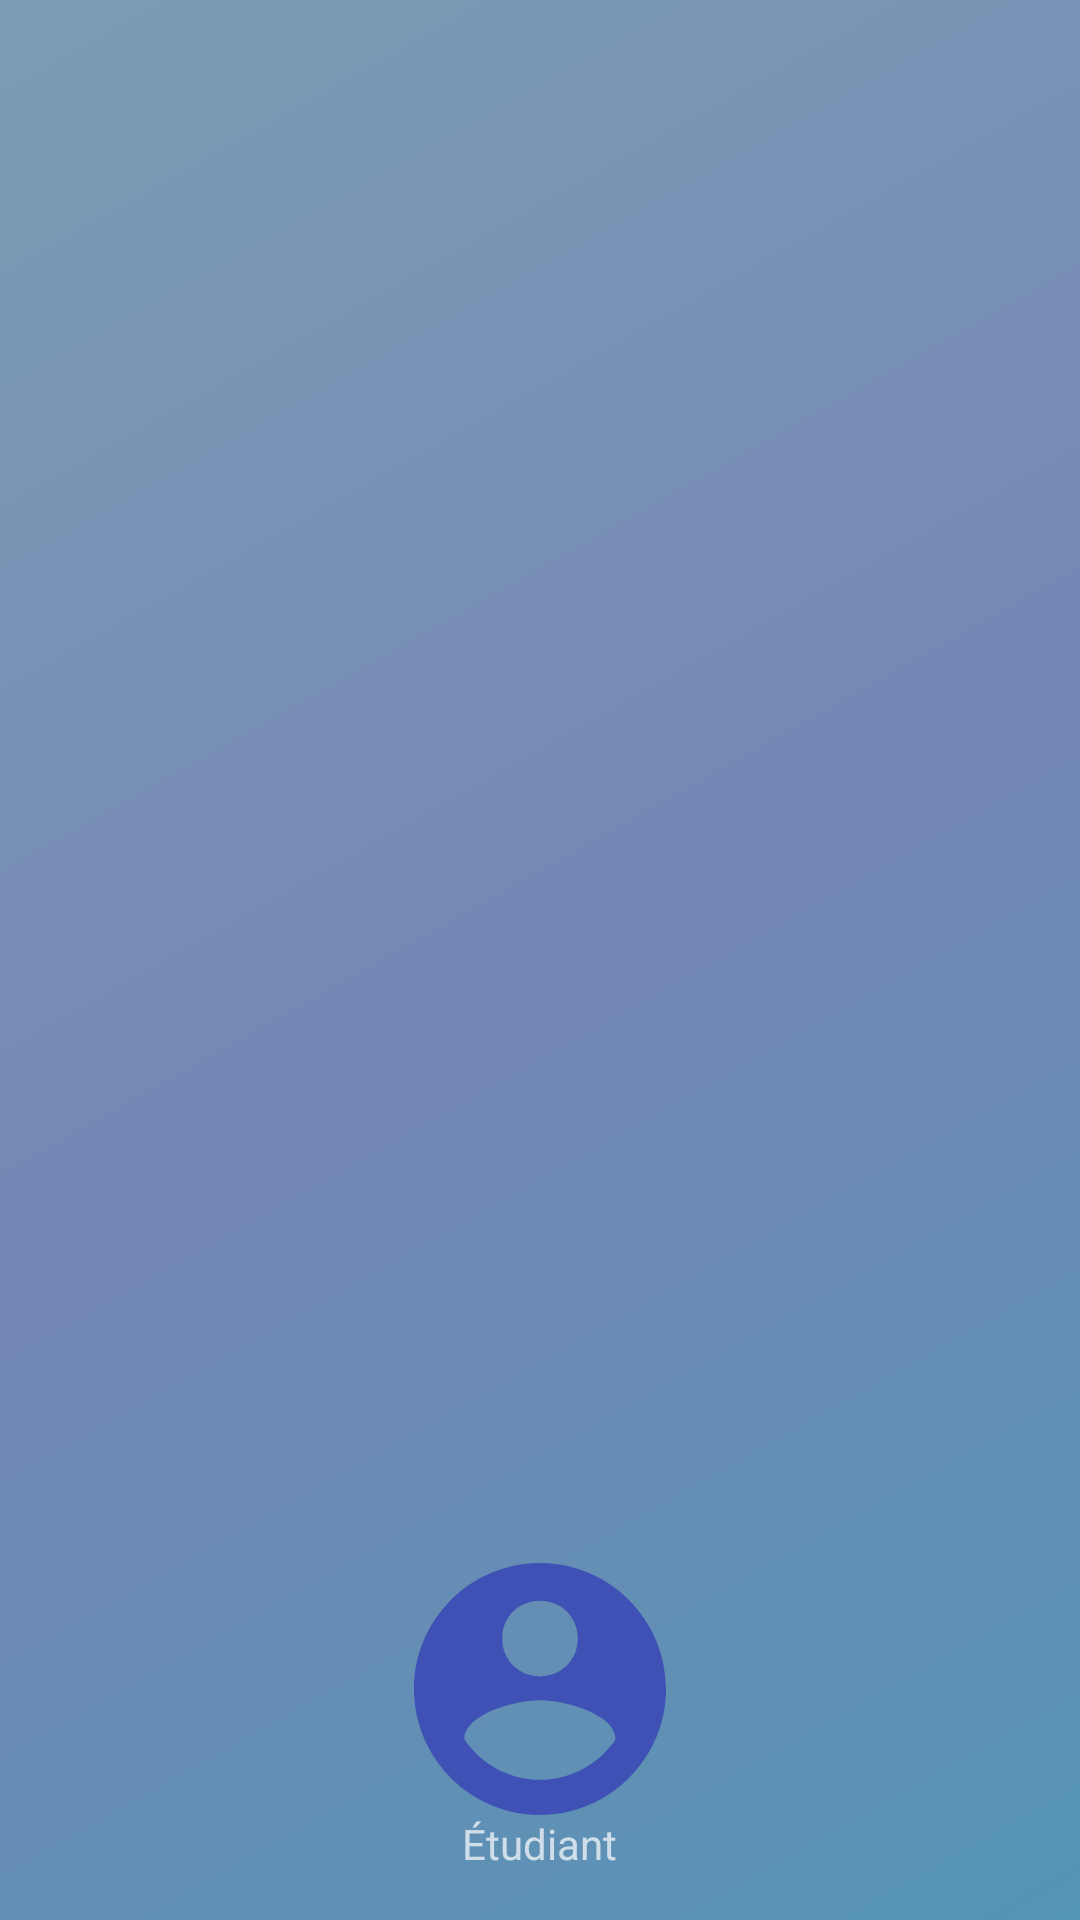

Screen size 1080*1920. Icon name, then its center in pixels as [x,y]:
user: [540,1689]
